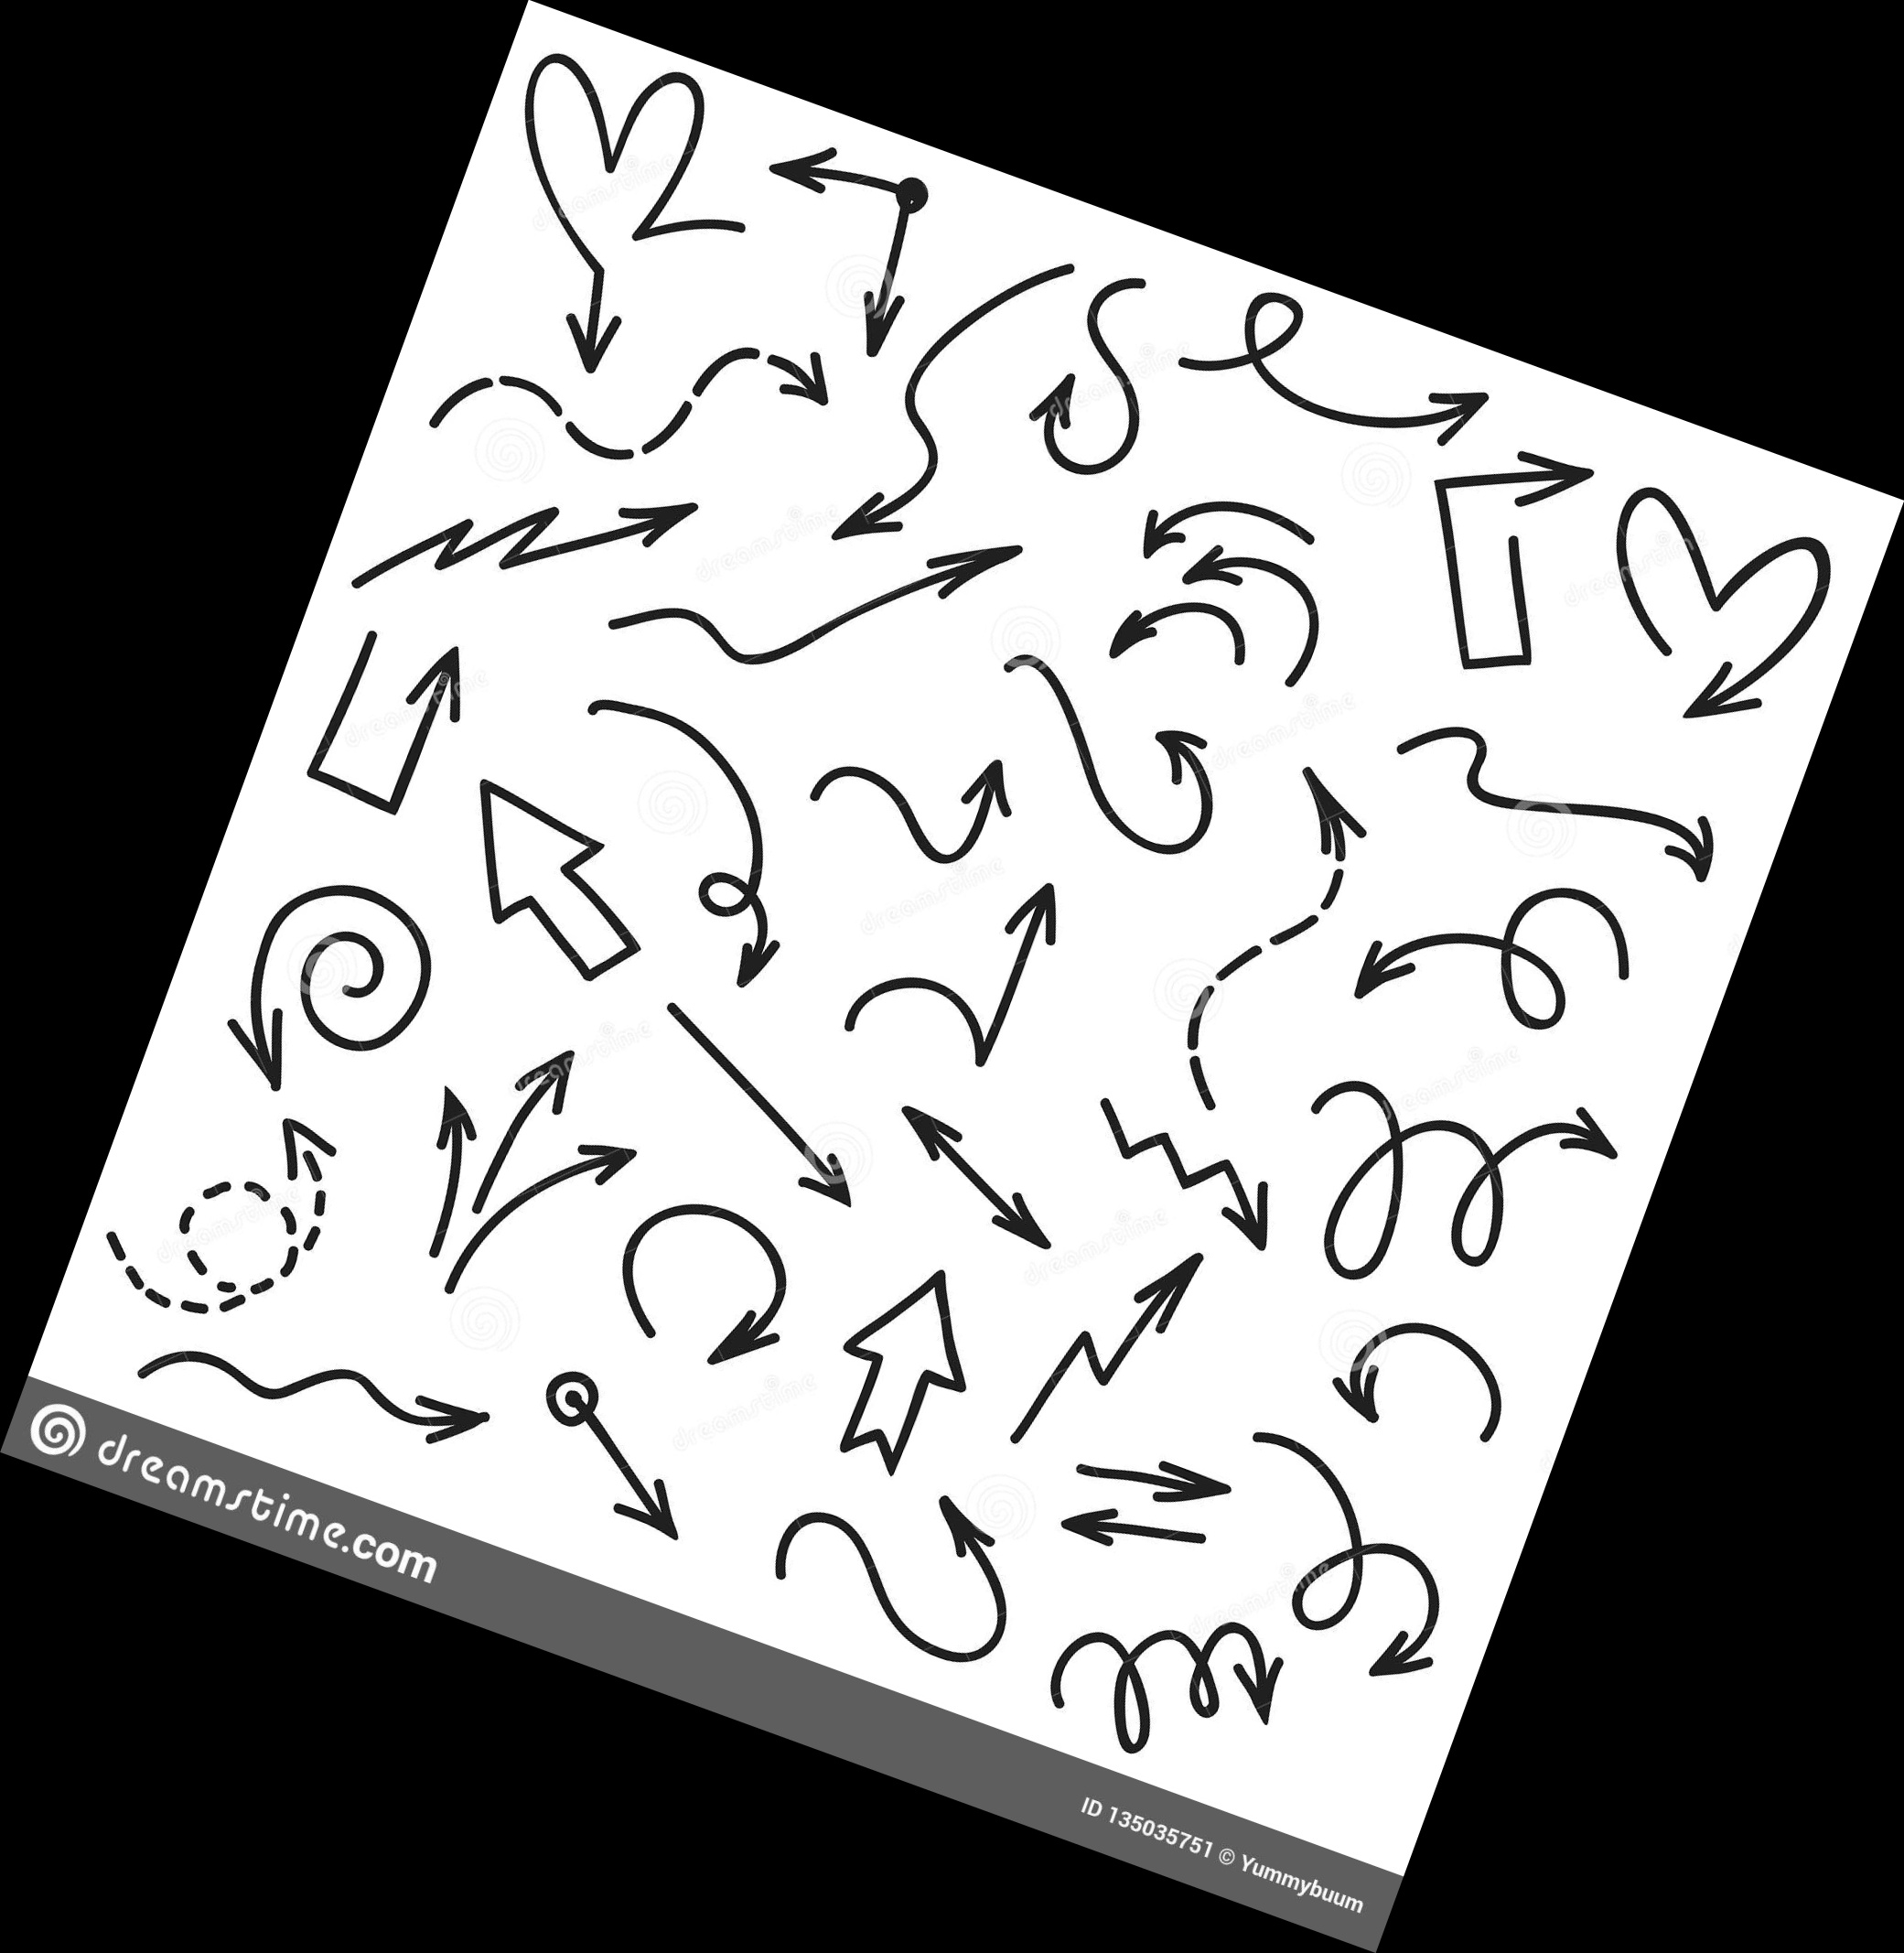arrow: (1574, 785, 1717, 895), (865, 537, 1032, 626), (1112, 1236, 1210, 1388), (811, 459, 961, 555), (363, 1364, 506, 1461), (1341, 377, 1499, 462), (1287, 757, 1362, 936), (213, 949, 303, 1095), (978, 879, 1081, 1008), (1343, 919, 1466, 1024), (1316, 1317, 1416, 1442), (1681, 629, 1794, 738), (764, 1111, 870, 1224), (919, 1489, 1013, 1616), (697, 1276, 818, 1371), (1472, 441, 1595, 527), (274, 1107, 345, 1254), (1093, 1447, 1243, 1517), (762, 136, 891, 214), (396, 643, 471, 776), (731, 344, 842, 429), (891, 1092, 987, 1191), (1186, 539, 1304, 619), (553, 272, 633, 389), (600, 1458, 706, 1545), (1119, 485, 1248, 555), (495, 1048, 582, 1151), (1057, 1496, 1173, 1571), (846, 253, 917, 375), (1142, 720, 1224, 823), (1090, 596, 1201, 671), (584, 497, 718, 558), (1527, 1092, 1627, 1174), (532, 1132, 654, 1196), (1229, 1636, 1301, 1744), (950, 750, 1017, 863), (1219, 1161, 1285, 1269), (1377, 1596, 1451, 1691), (420, 1074, 481, 1187), (1025, 364, 1085, 476), (718, 914, 793, 994)
